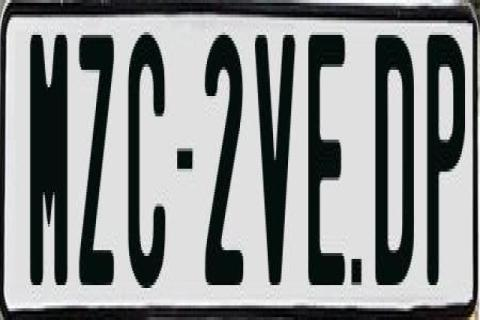0: (202, 35, 244, 288)
C: (128, 26, 170, 294)
D: (376, 32, 416, 282)
E: (308, 29, 346, 297)
M: (29, 26, 68, 288)
P: (427, 32, 465, 294)
V: (252, 32, 298, 294)
Z: (76, 32, 117, 294)
